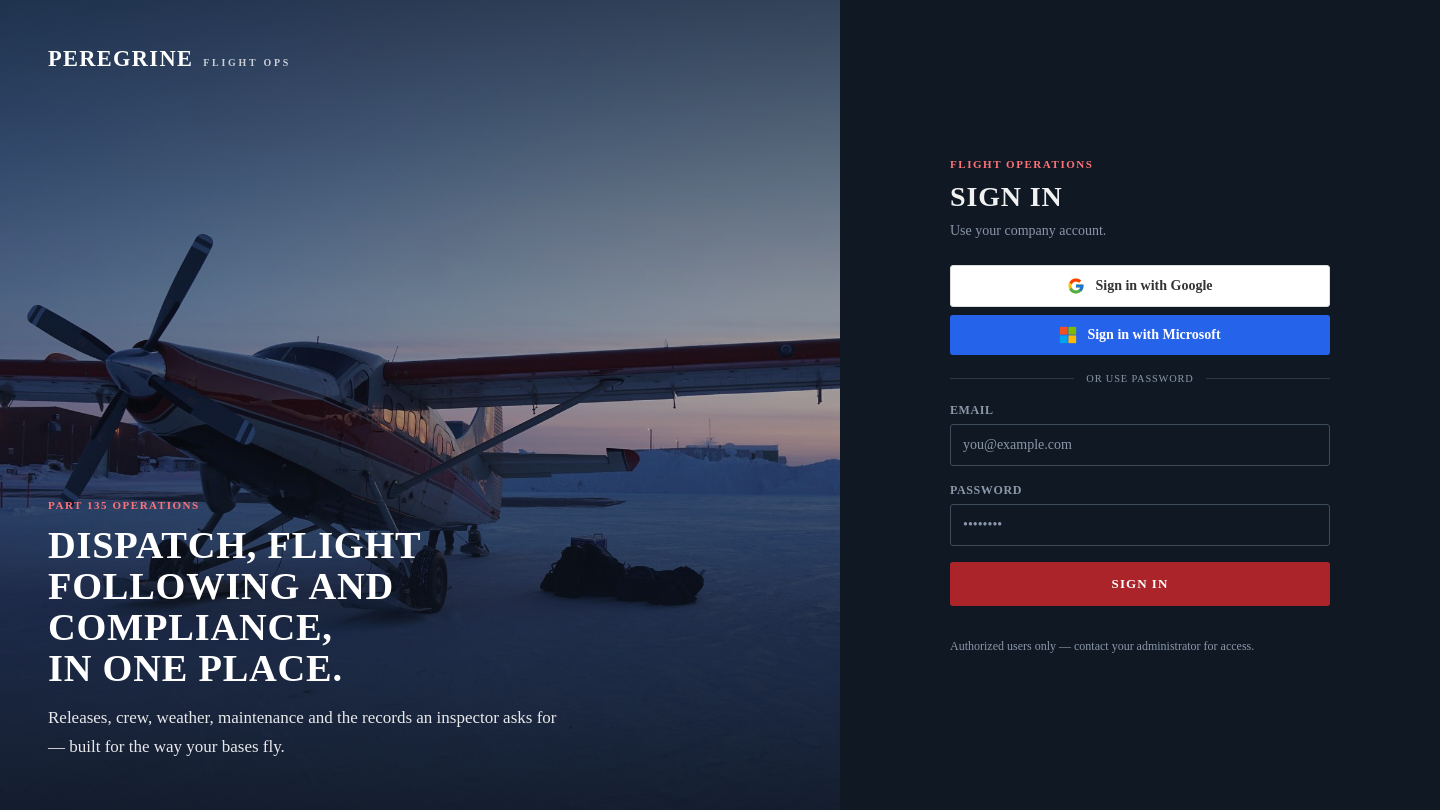
it: LoginForm › replaces env-driven SSO buttons with the tenant-resolved list
Expected: the button "Sign in with Microsoft" is shown, [950, 315, 1330, 355]
In the field labelled "Email": (1140, 445) [950, 424, 1330, 466], type "pilot@acme.local"
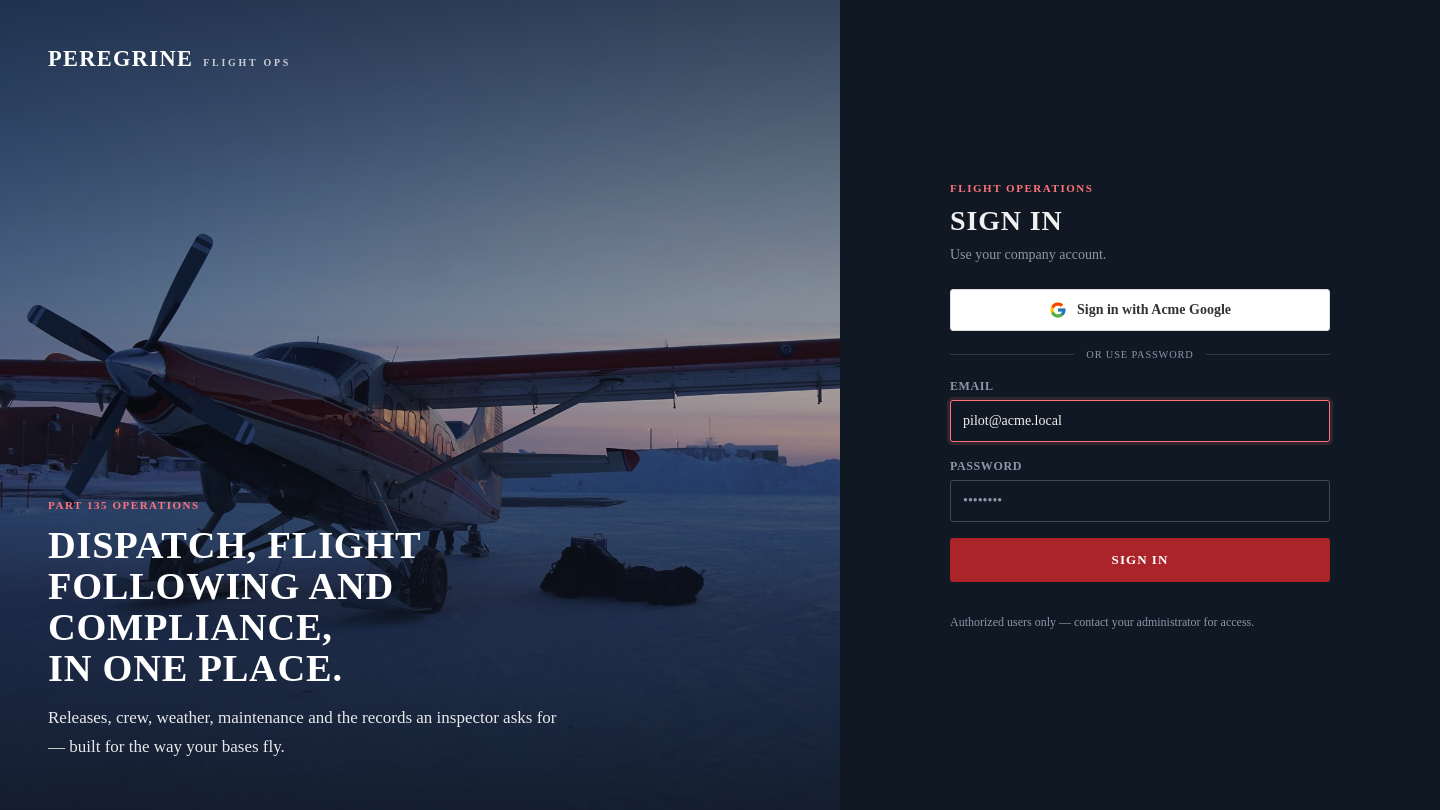
Now the button "Sign in with Microsoft" is gone
Now the button "Sign in with Acme Google" is shown, box [950, 289, 1330, 331]
